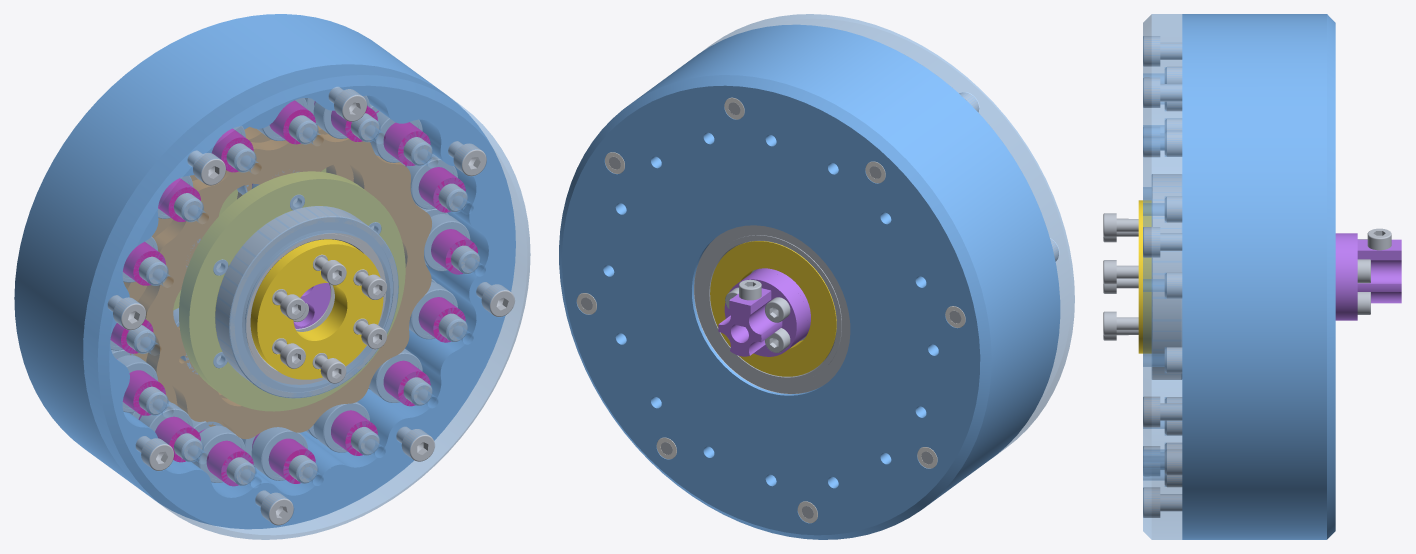
File: drive.glb
3 renders of one model, left to right at view 1: azimuth 30°, elevation 25°; view 2: azimuth 150°, elevation 25°; view 3: azimuth 270°, elevation 25°, orthographic. The views are drawn at different scales.
Size of the model in its own units: 0.12 by 0.12 by 0.068.
